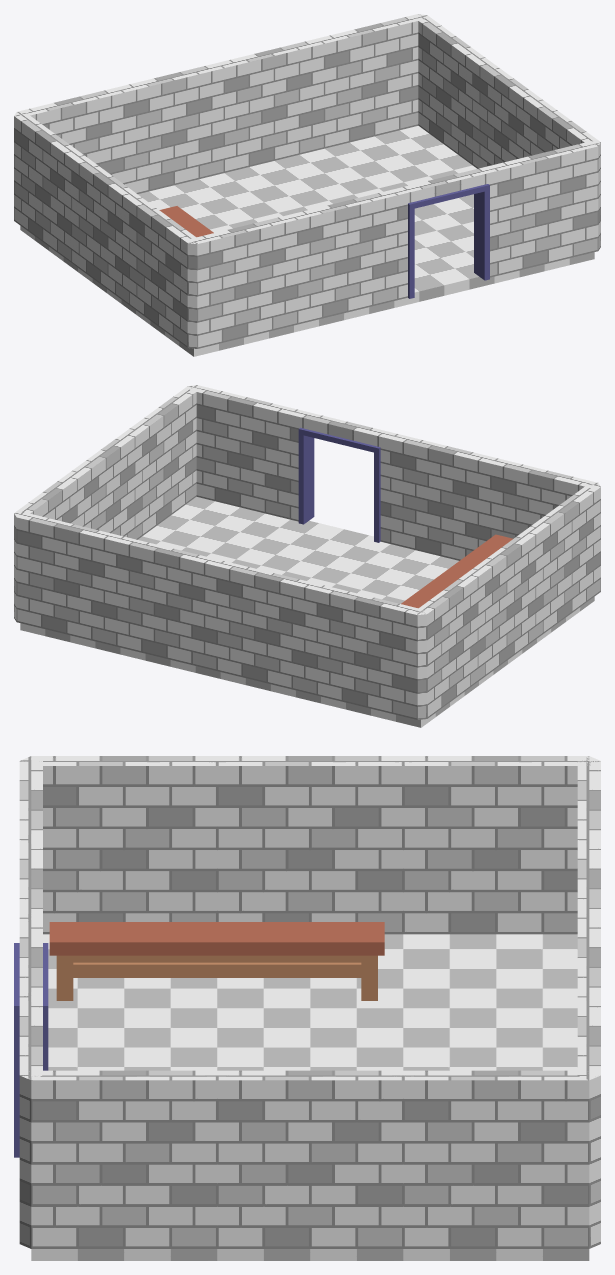
The model's file is Store.fbx.
3 renders of one model, top to bottom at view 1: azimuth 30°, elevation 25°; view 2: azimuth 150°, elevation 25°; view 3: azimuth 270°, elevation 25°, orthographic. The views are drawn at different scales.
Parts seen in each view (by area): view 1: wall (×13), porch_floorCenter (×9), doorway_wideThin, furniture_bench; view 2: wall (×13), porch_floorCenter (×9), doorway_wideThin, furniture_bench; view 3: wall (×13), porch_floorCenter (×9), furniture_bench, doorway_wideThin.
Part boxes in pixels (x1,y1,x2,y2): wall (×13): [14, 14, 600, 348]; porch_floorCenter (×9): [136, 126, 594, 356]; doorway_wideThin: [390, 165, 497, 299]; furniture_bench: [159, 206, 213, 237]; wall (×13): [14, 385, 600, 719]; porch_floorCenter (×9): [20, 497, 478, 727]; doorway_wideThin: [288, 409, 399, 543]; furniture_bench: [401, 534, 513, 608]; wall (×13): [19, 756, 600, 1248]; porch_floorCenter (×9): [31, 934, 589, 1260]; furniture_bench: [49, 922, 384, 1000]; doorway_wideThin: [14, 913, 48, 1157].
Size of the model in its own units: 41.25 by 11 by 31.55.
Materials: 5 (2 with a texture image).
